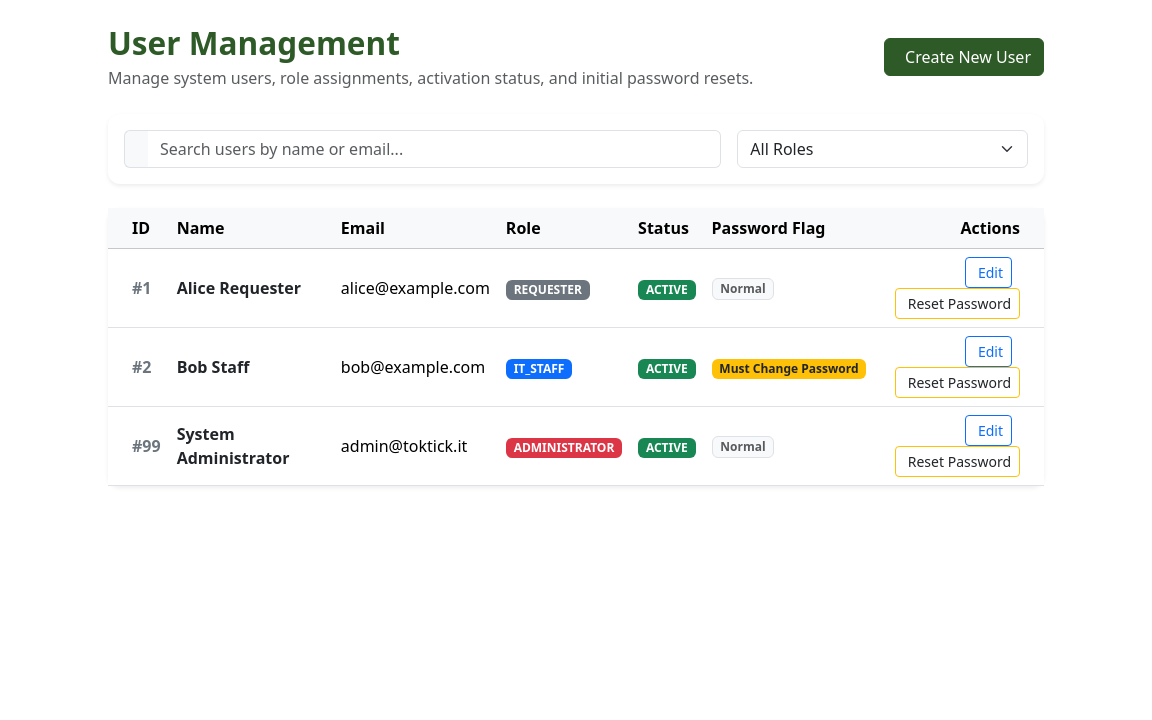
UserManagement Component Suite (UserManagement.test.tsx) › opens Reset Password modal, submits new initial password, and shows success banner
Expected: the table with test id "admin-user-table" is shown, x1=108 y1=208 x2=1044 y2=486
Click the button with test id "reset-password-btn-1" at (957, 303), box x1=895 y1=288 x2=1020 y2=319
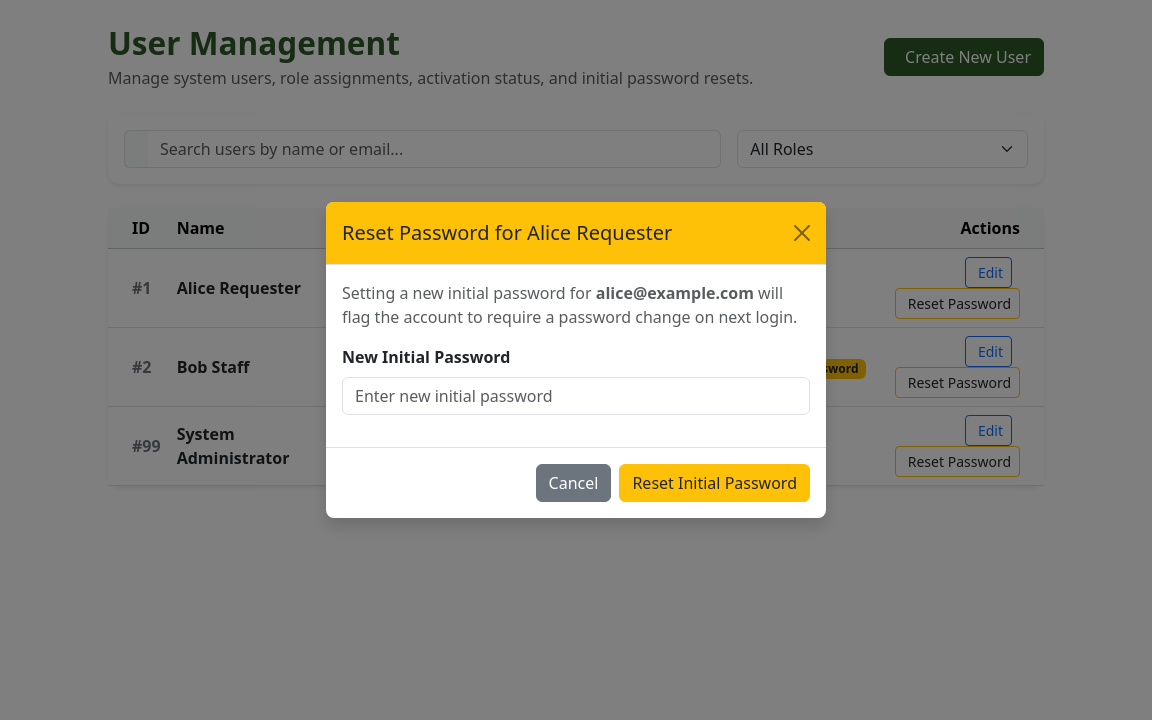
Now the element with test id "reset-password-modal" is shown
Type "NewTempPassword123!" into the password field with test id "reset-password-input" at (576, 396), box x1=342 y1=377 x2=810 y2=415
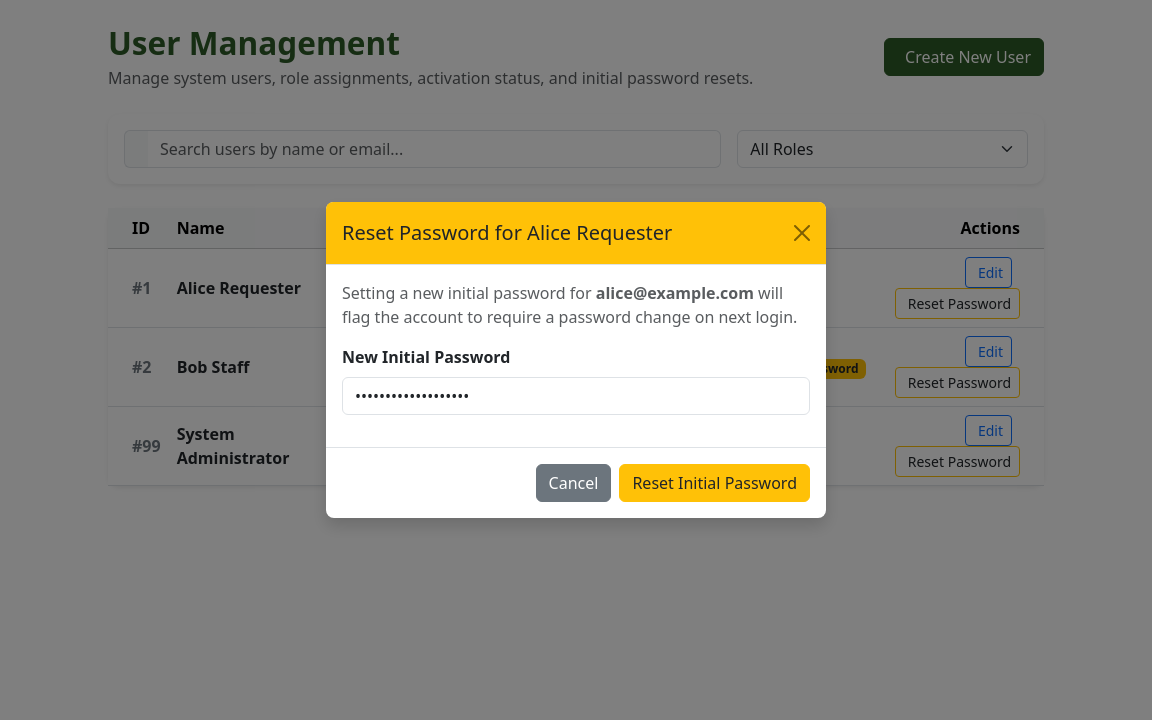
Click the button with test id "submit-reset-password-btn" at (715, 483), box x1=619 y1=464 x2=810 y2=502
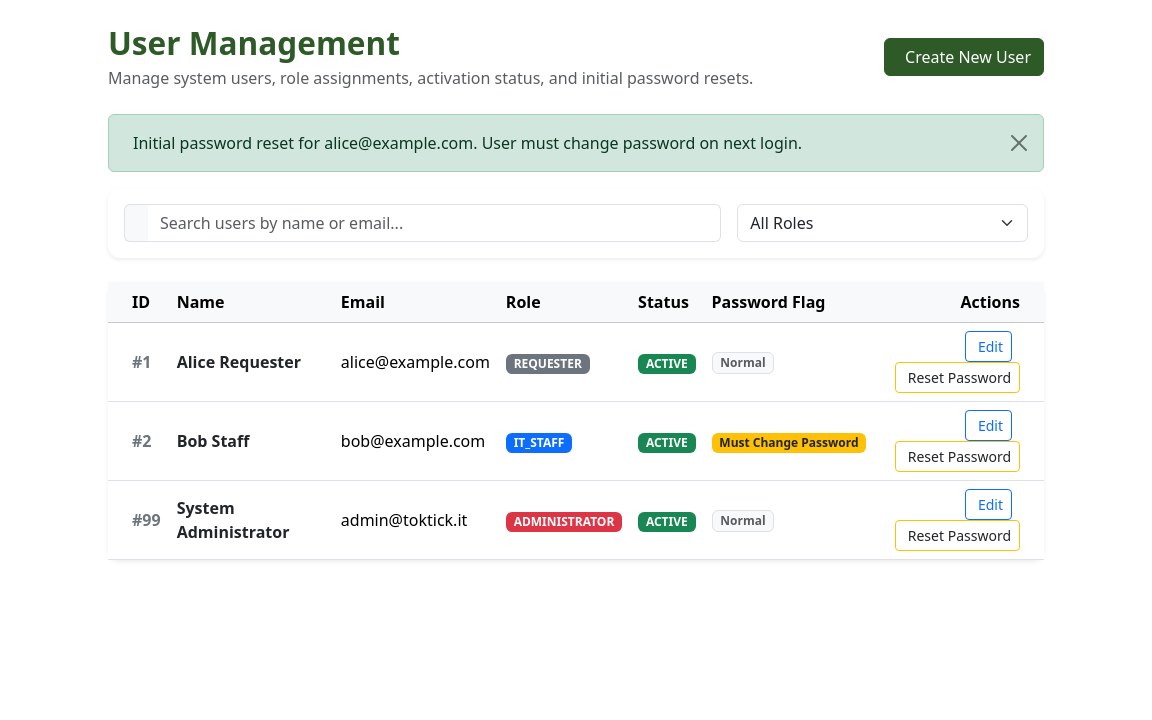
Now the message with test id "admin-success-alert" is shown, box x1=108 y1=114 x2=1044 y2=172
